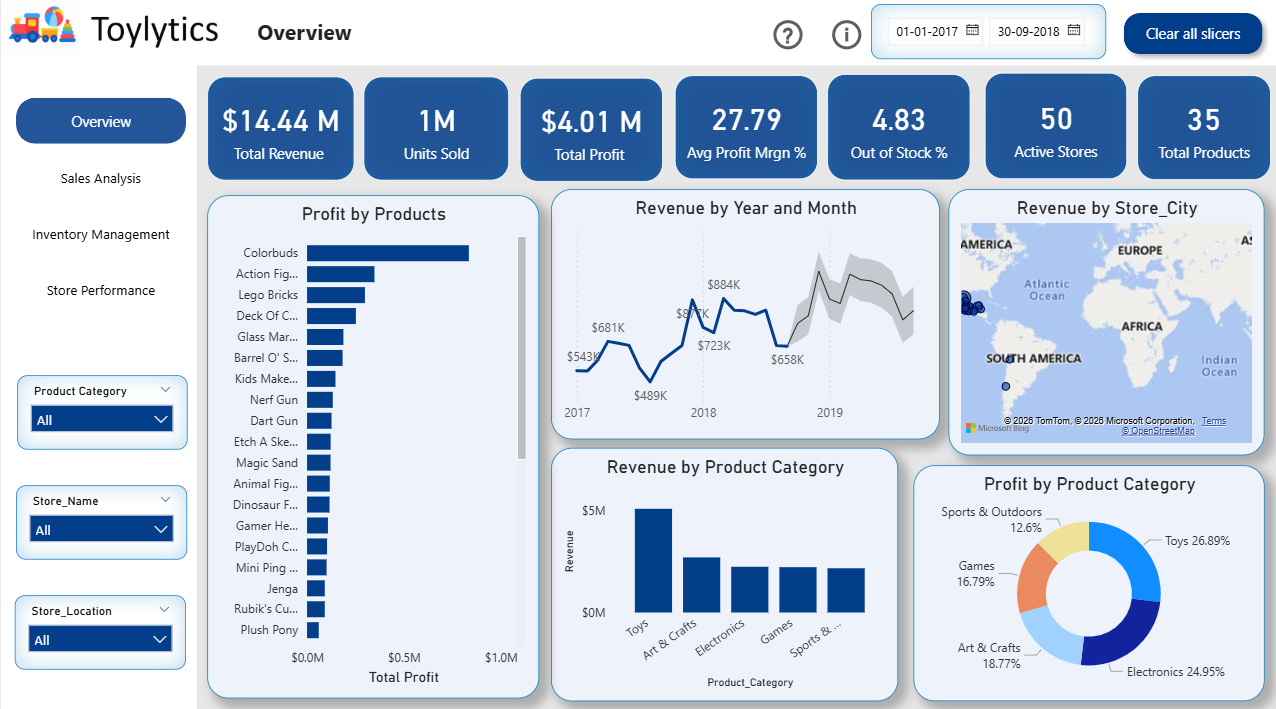

The dashboard page shown, as its layout file describes it:
{"tool":"powerbi","page":{"name":"Overview","canvas":[1280,720],"ordinal":0},"visuals":[{"type":"card","fields":{"Values":["sales.Total Revenue KPI"]},"box":[206.3,86.9,143.6,102.5],"z":0},{"type":"card","fields":{"Values":["Sum(sales.Units)"]},"box":[361.9,86.9,143.6,102],"z":1000},{"type":"card","fields":{"Values":["sales.total profit kpi"]},"box":[516.4,86.9,143.6,101.3],"z":2000},{"type":"card","fields":{"Values":["sales.Average Profit Margin %"]},"box":[672,85.7,142.4,102.5],"z":3000},{"type":"card","fields":{"Values":["inventory.Out of Stock %"]},"box":[826.4,85.7,143.6,101.3],"z":4000},{"type":"card","fields":{"Values":["sales.Average YoY % Revenue"]},"box":[982,84.5,142.4,102.5],"z":5000},{"type":"lineChart","title":"Revenue by Year and Month","fields":{"Y":["sales.Total Revenue"],"Category":["Date.Date.Variation.Date Hierarchy.Year","Date.Date.Variation.Date Hierarchy.Month"]},"box":[550,195,388.8,250],"z":6000},{"type":"map","title":"Revenue by Store_City","fields":{"Category":["stores.Store_City"],"Size":["sales.Total Revenue"]},"box":[947.1,195.4,316.1,266.6],"z":7000},{"type":"clusteredColumnChart","title":"Revenue by Product Category","fields":{"Category":["products.Product_Category"],"Y":["sales.Total Revenue"]},"box":[550,453.8,347.5,253.8],"z":8000},{"type":"donutChart","title":"Profit by Product Category","fields":{"Category":["products.Product_Category"],"Y":["sales.Total Profit"]},"box":[912.5,471.2,351.2,236.2],"z":9000},{"type":"clusteredBarChart","title":"Profit by Products","fields":{"Category":["products.Product_Name"],"Y":["sales.Total Profit"]},"box":[206.3,201.5,331.8,503.1],"z":10000},{"type":"pageNavigator","box":[14.5,103.8,170.1,217.2],"z":11000},{"type":"slicer","fields":{"Values":["sales.Date"]},"box":[869.8,9.7,235.3,55],"z":12000},{"type":"slicer","fields":{"Values":["products.Product_Category"]},"box":[15.7,381,170.1,74.8],"z":13000},{"type":"slicer","fields":{"Values":["stores.Store_Name"]},"box":[14.5,490.9,171.3,74.8],"z":14000},{"type":"slicer","fields":{"Values":["stores.Store_Location"]},"box":[13.3,600.8,171.3,74.8],"z":15000},{"type":"textbox","box":[250.9,16.9,130.3,42.2],"z":16000},{"type":"actionButton","box":[1113.5,9.7,156.8,59.1],"z":17000},{"type":"card","fields":{"Values":["CountNonNull(products.Product_ID)"]},"box":[1136.5,84.5,142.4,102.5],"z":18000},{"type":"actionButton","box":[826.8,20.7,40.2,39],"z":19000},{"type":"actionButton","box":[767.1,20.7,50,39],"z":21000}]}

Visuals, with their boxes in screenshot pixels (x1, y1, x2, y2), scaled from the page's 1280x720 canvas onto the 1276x709 screenshot:
card - sales.Total Revenue KPI: select_region(206, 86, 349, 187)
card - Sum(sales.Units): select_region(361, 86, 504, 186)
card - sales.total profit kpi: select_region(515, 86, 658, 185)
card - sales.Average Profit Margin %: select_region(670, 84, 812, 185)
card - inventory.Out of Stock %: select_region(824, 84, 967, 184)
card - sales.Average YoY % Revenue: select_region(979, 83, 1121, 184)
"Revenue by Year and Month" lineChart: select_region(548, 192, 936, 438)
"Revenue by Store_City" map: select_region(944, 192, 1259, 455)
"Revenue by Product Category" clusteredColumnChart: select_region(548, 447, 895, 697)
"Profit by Product Category" donutChart: select_region(910, 464, 1260, 697)
"Profit by Products" clusteredBarChart: select_region(206, 198, 536, 694)
pageNavigator: select_region(14, 102, 184, 316)
slicer - sales.Date: select_region(867, 10, 1102, 64)
slicer - products.Product_Category: select_region(16, 375, 185, 449)
slicer - stores.Store_Name: select_region(14, 483, 185, 557)
slicer - stores.Store_Location: select_region(13, 592, 184, 665)
textbox: select_region(250, 17, 380, 58)
actionButton: select_region(1110, 10, 1266, 68)
card - CountNonNull(products.Product_ID): select_region(1133, 83, 1275, 184)
actionButton: select_region(824, 20, 864, 59)
actionButton: select_region(765, 20, 815, 59)
